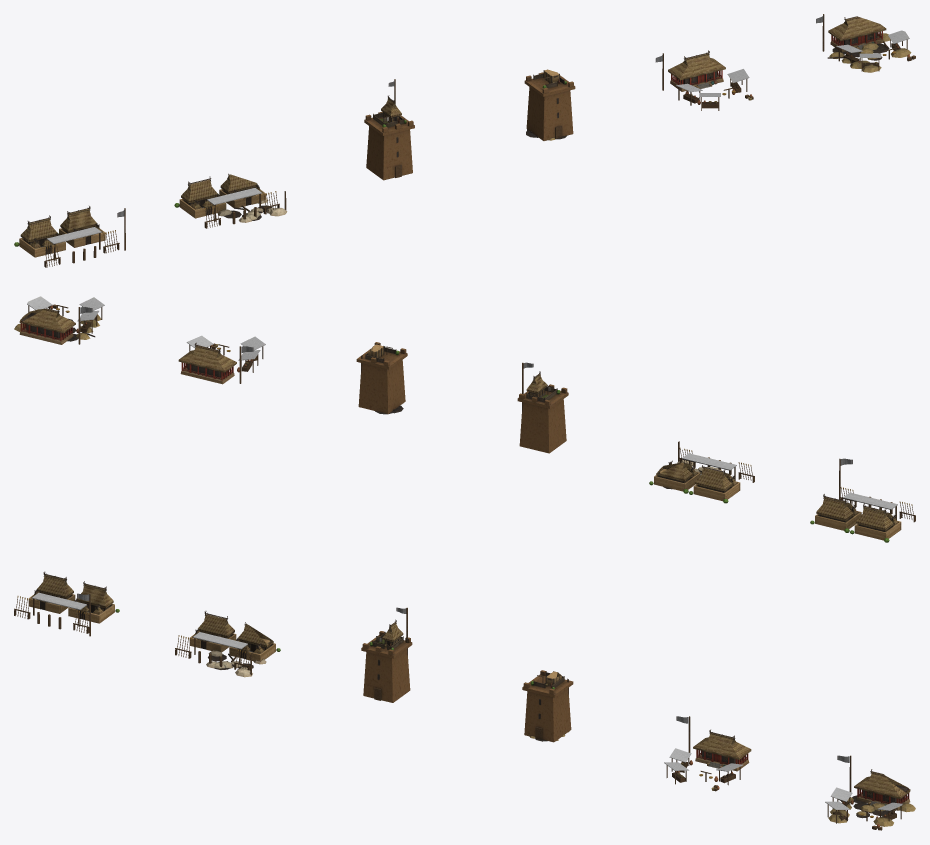
Rendered from rts-bronze-sinic-6da95fa2.glb.
3 renders of one model, top to bottom at view 1: azimuth 30°, elevation 25°; view 2: azimuth 150°, elevation 25°; view 3: azimuth 330°, elevation 25°, orthographic.
Parts seen in each view (by area): view 1: LOD0.001, LOD0, LOD0.005, LOD0.002, LOD0.003, LOD0.004; view 2: LOD0, LOD0.002, LOD0.001, LOD0.003, LOD0.005, LOD0.004; view 3: LOD0.001, LOD0.005, LOD0.002, LOD0, LOD0.003, LOD0.004.
Boxes of the visible parts, left/top/right/bottom form: LOD0.001: left=174, top=173, right=287, bottom=228; LOD0: left=14, top=206, right=125, bottom=267; LOD0.005: left=816, top=14, right=915, bottom=72; LOD0.002: left=364, top=79, right=414, bottom=180; LOD0.003: left=524, top=69, right=575, bottom=140; LOD0.004: left=655, top=50, right=753, bottom=110; LOD0: left=810, top=458, right=915, bottom=542; LOD0.002: left=517, top=362, right=568, bottom=453; LOD0.001: left=649, top=441, right=754, bottom=503; LOD0.003: left=356, top=342, right=407, bottom=414; LOD0.005: left=14, top=296, right=104, bottom=344; LOD0.004: left=178, top=335, right=265, bottom=384; LOD0.001: left=175, top=611, right=280, bottom=677; LOD0.005: left=825, top=755, right=915, bottom=830; LOD0.002: left=361, top=607, right=412, bottom=702; LOD0: left=14, top=571, right=119, bottom=636; LOD0.003: left=522, top=670, right=573, bottom=742; LOD0.004: left=664, top=716, right=751, bottom=791.
Size of what is drawn, in the model's own units: 16.35 by 1.49 by 1.36.
Materials: 2 (2 with a texture image).
